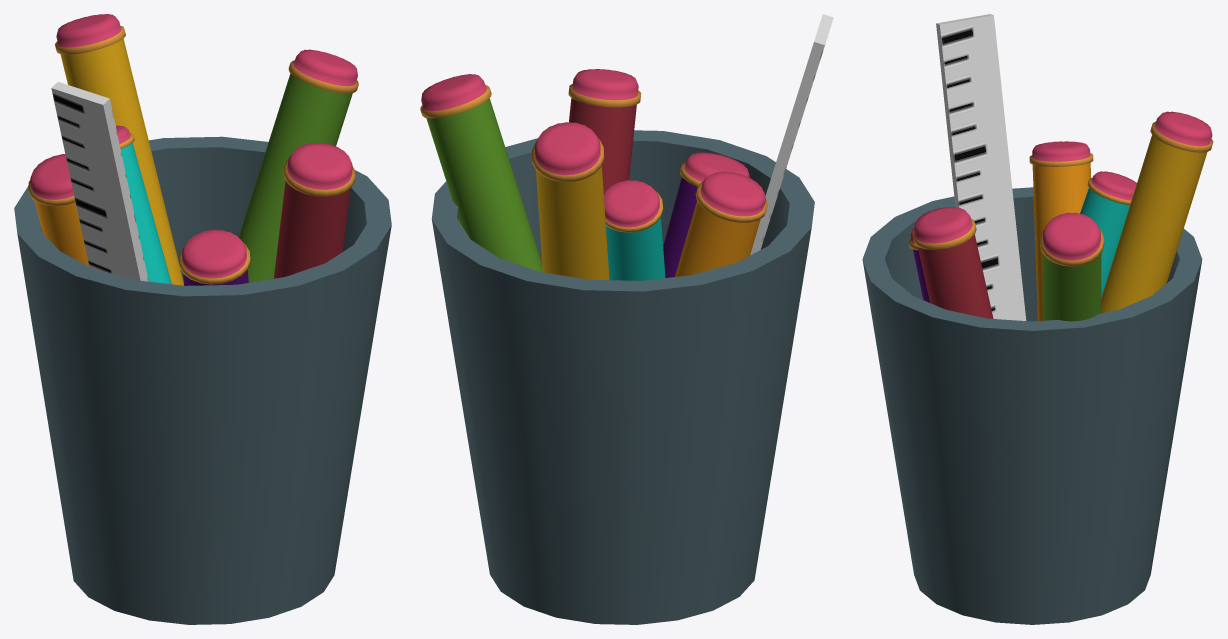
Rendered from pencil_case_model.glb.
3 renders of one model, left to right at view 1: azimuth 30°, elevation 25°; view 2: azimuth 150°, elevation 25°; view 3: azimuth 270°, elevation 25°, orthographic. The views are drawn at different scales.
Parts seen in each view (by area): view 1: pCylinder8; view 2: pCylinder8; view 3: pCylinder8.
Boxes of the visible parts, <box> form: pCylinder8: <box>14,14,391,624</box>; pCylinder8: <box>420,14,833,624</box>; pCylinder8: <box>862,14,1213,624</box>.
Bounding box in the file's own units: 8.84 × 13.2 × 8.62.
Materials: 1 (1 with a texture image).
